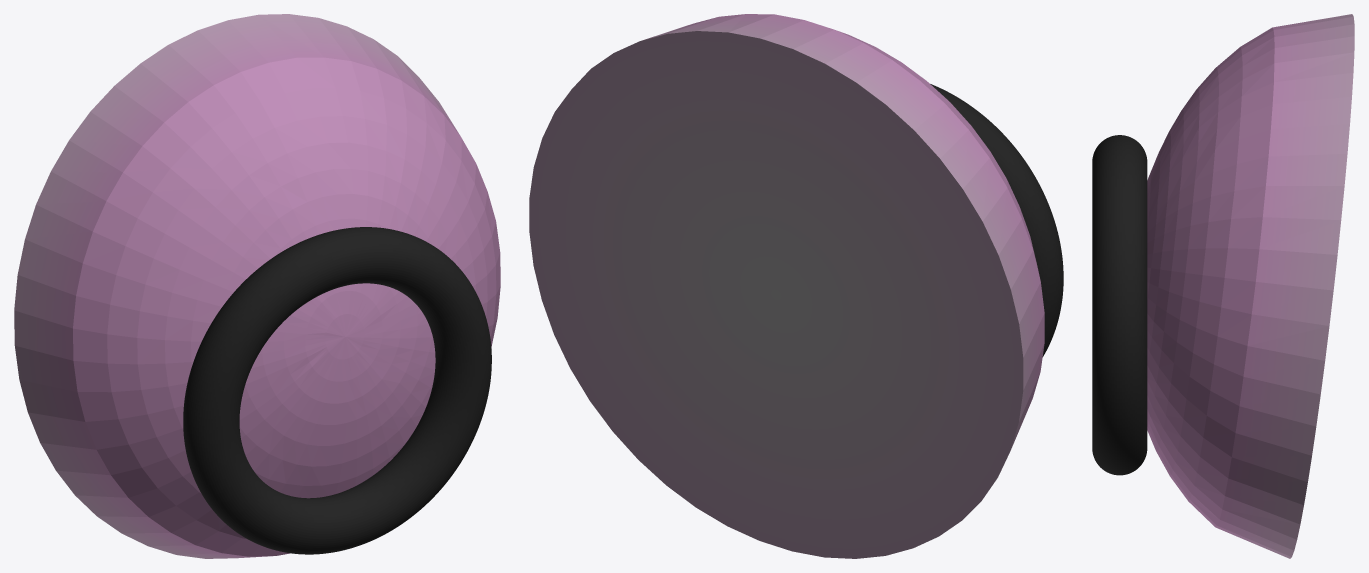
File: FINAL012_with_Ring_m.glb
3 views of the same model, side by side, from view 1: azimuth 30°, elevation 25°; view 2: azimuth 150°, elevation 25°; view 3: azimuth 270°, elevation 25° (orthographic). The views are drawn at different scales.
Parts seen in each view (by area): view 1: Polyp_FINAL012, Ring_CAD; view 2: Polyp_FINAL012, Ring_CAD; view 3: Polyp_FINAL012, Ring_CAD.
Boxes of the visible parts, x1=… form: Polyp_FINAL012: x1=14, y1=14, x2=500, y2=558; Ring_CAD: x1=183, y1=227, x2=491, y2=554; Polyp_FINAL012: x1=529, y1=14, x2=1044, y2=558; Ring_CAD: x1=930, y1=84, x2=1063, y2=356; Polyp_FINAL012: x1=1147, y1=14, x2=1354, y2=558; Ring_CAD: x1=1092, y1=135, x2=1147, y2=475.
Size of the model in its own units: 0.0114 by 0.0119 by 0.00571.
